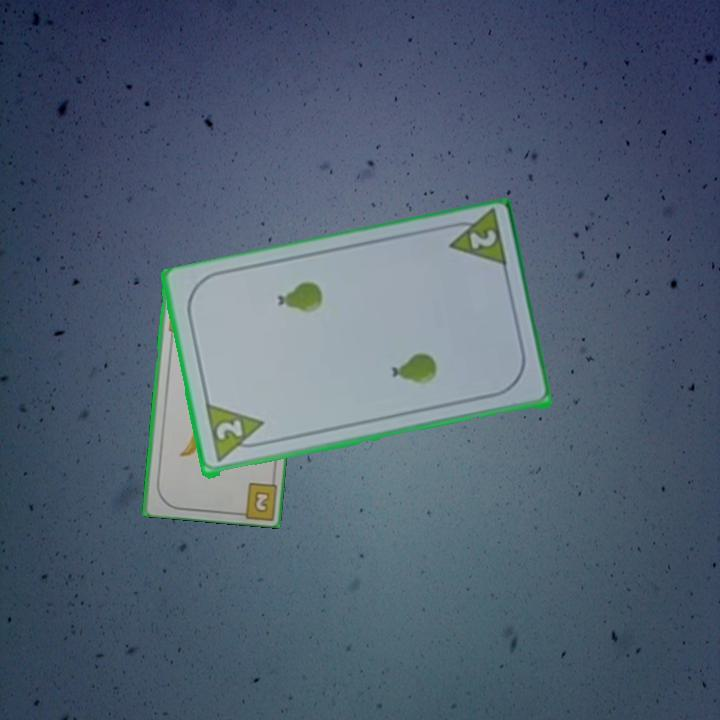2b: (250, 487, 272, 515)
2p: (465, 226, 499, 253), (212, 417, 245, 444)
